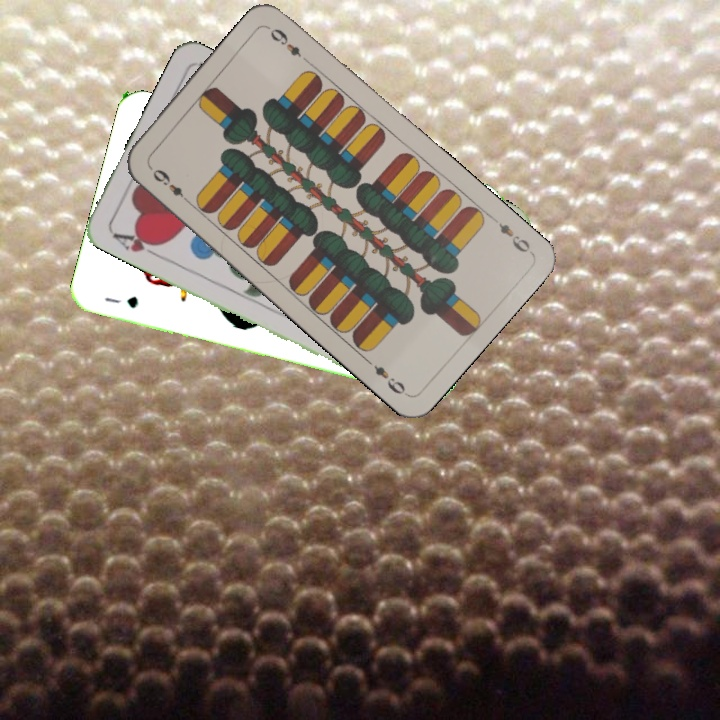E9: (487, 212, 533, 255), (148, 164, 192, 206)
GU: (100, 291, 141, 311)
HA: (108, 227, 166, 261)
